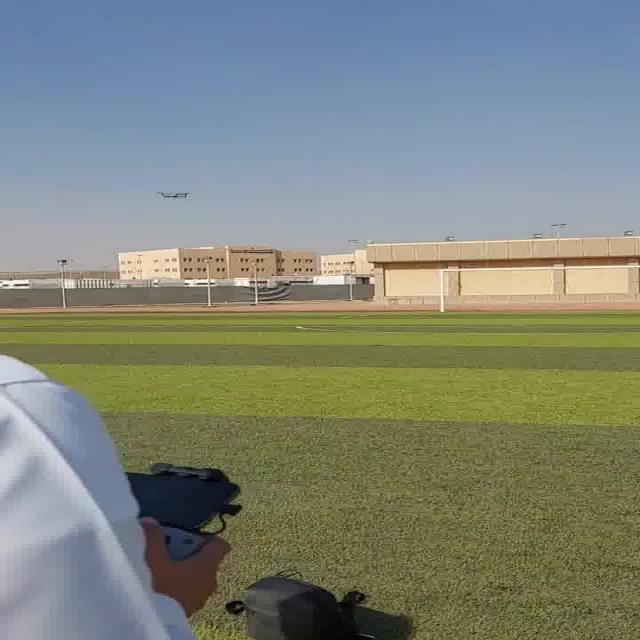drone: (142, 187, 204, 205)
